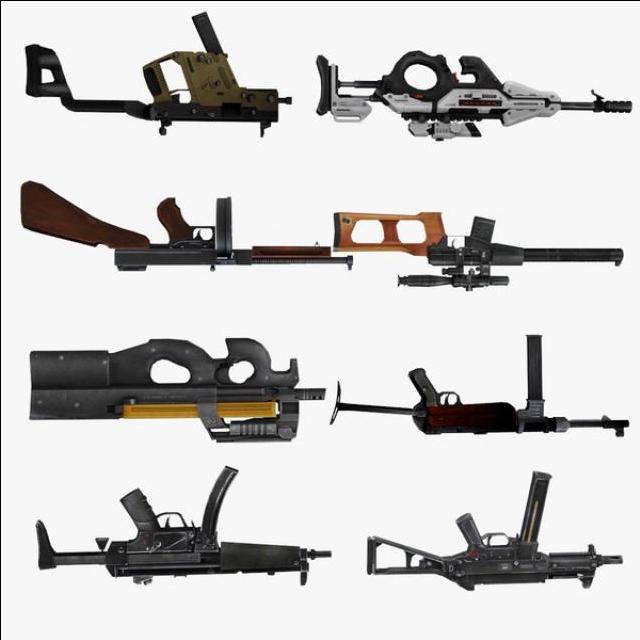smg: (31, 464, 331, 602), (331, 329, 633, 459), (18, 180, 334, 295), (361, 473, 629, 602), (26, 334, 323, 447), (26, 17, 283, 135)
sniper rifle: (335, 159, 635, 293), (318, 26, 630, 143)
